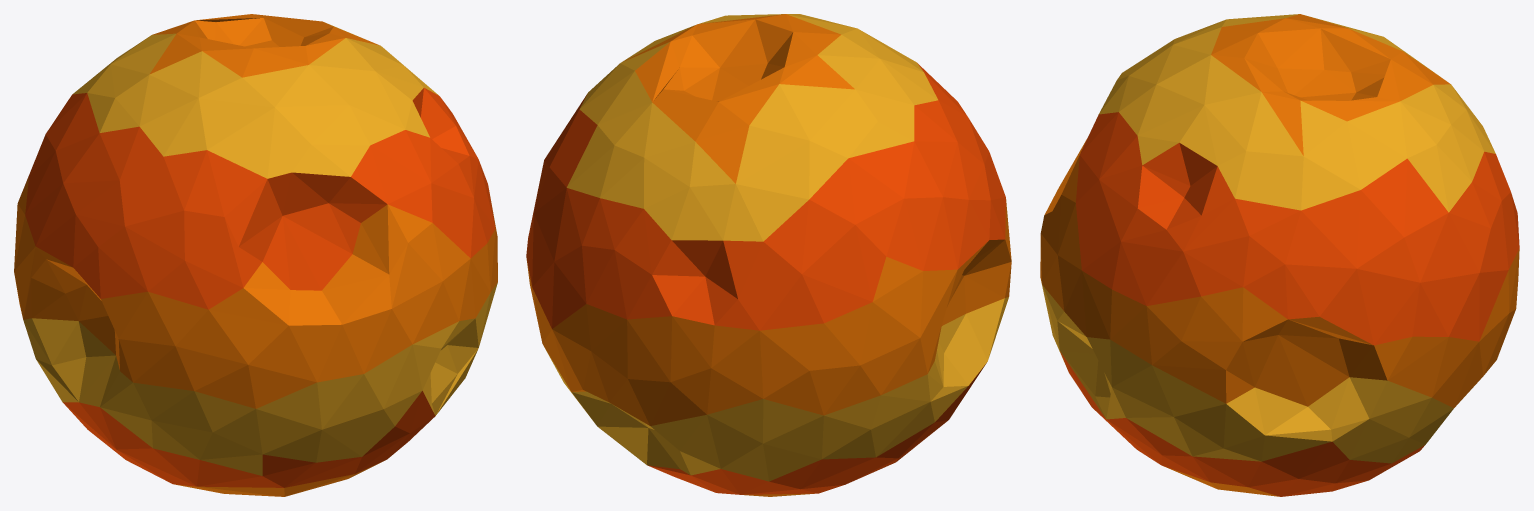
The model's file is planet_4.fbx.
The picture shows the model from 3 angles, left to right: view 1: azimuth 30°, elevation 25°; view 2: azimuth 150°, elevation 25°; view 3: azimuth 270°, elevation 25°; orthographic projection.
Parts seen in each view (by area): view 1: planet_4; view 2: planet_4; view 3: planet_4.
Boxes of the visible parts, x1,y1,x2,y2 form: planet_4: (14, 14, 497, 496); planet_4: (526, 14, 1011, 496); planet_4: (1040, 14, 1519, 496).
Bounding box in the file's own units: 585 × 577 × 584.
